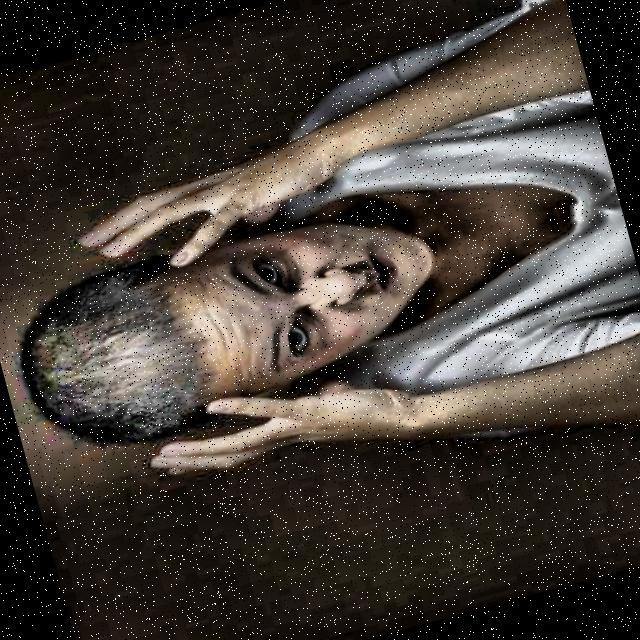angry: (0, 148, 477, 485)
